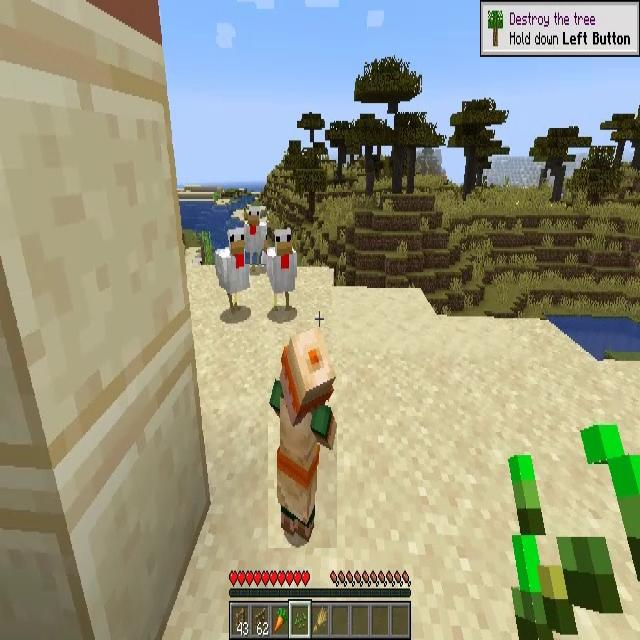duck: (215, 228, 250, 311), (266, 227, 297, 311), (244, 206, 267, 264)
people: (268, 328, 337, 548)
